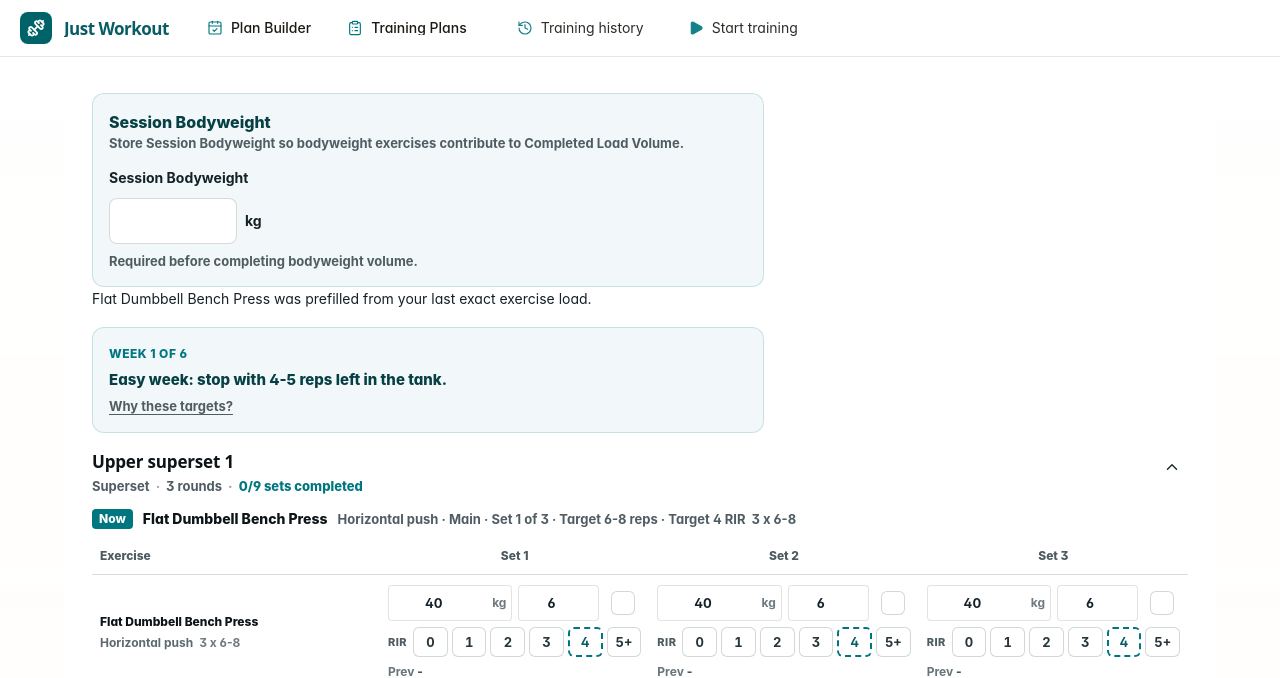
Scenario: TrainingPlanRoute › dismisses the exact-history prefill note after the user edits the exercise
Expected: the text "Flat Dumbbell Bench Press was prefilled from your last exact exercise load." is shown, [92,290,592,307]
Replace the text in the number field named "Flat Dumbbell Bench Press set 1 weight" with "42.5": (450, 603) [388,585,512,621]
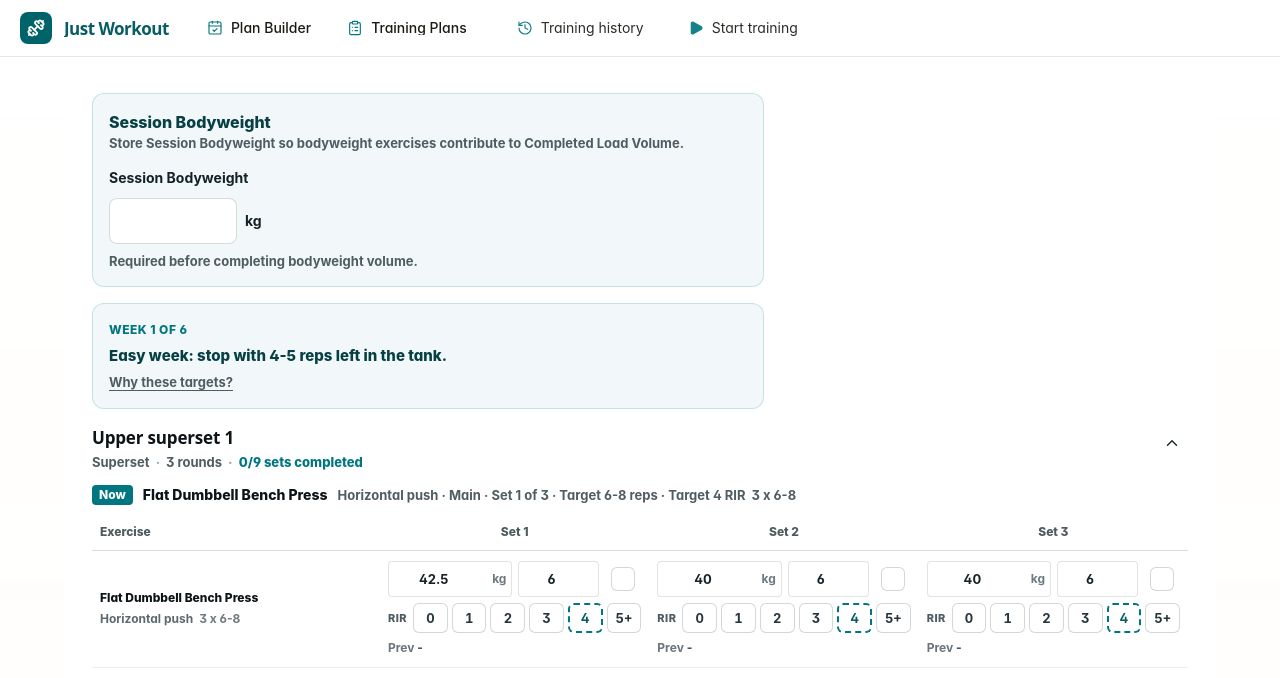
Expected: the text "Flat Dumbbell Bench Press was prefilled from your last exact exercise load." is gone
